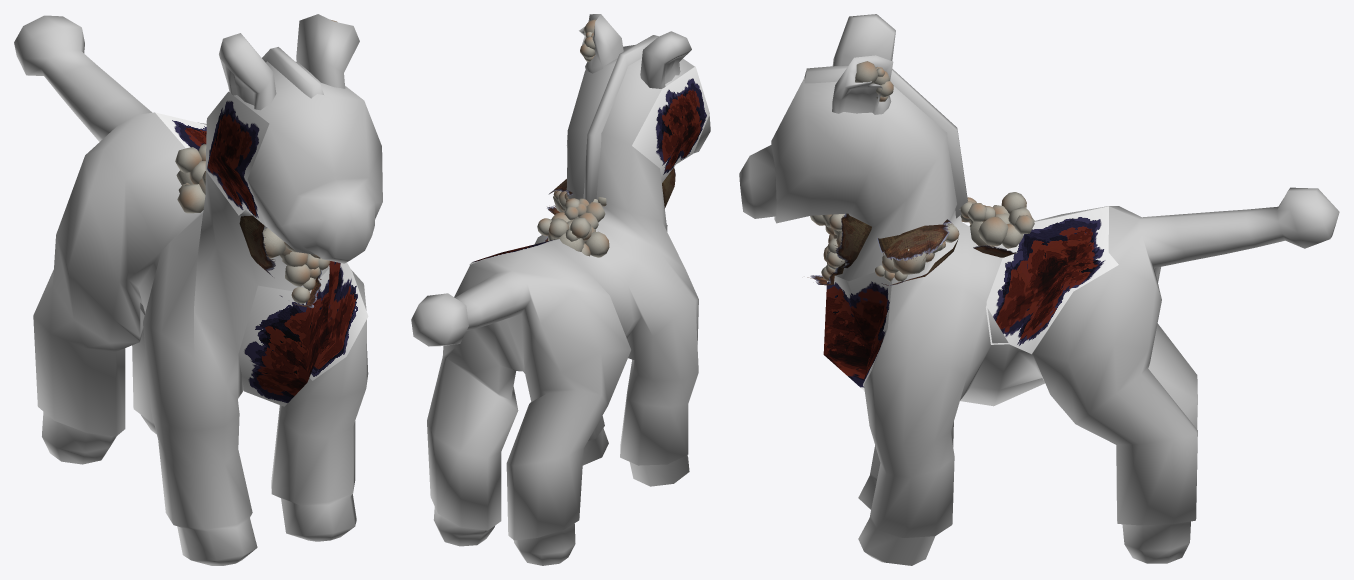
Rendered from SM_Peluche_Ane_2.fbx.
3 views of the same model, side by side, from view 1: azimuth 30°, elevation 25°; view 2: azimuth 150°, elevation 25°; view 3: azimuth 270°, elevation 25° (orthographic). The views are drawn at different scales.
Parts seen in each view (by area): view 1: Cylinder.001; view 2: Cylinder.001; view 3: Cylinder.001.
Boxes of the visible parts, x1,y1,x2,y2 form: Cylinder.001: (14, 14, 382, 565); Cylinder.001: (411, 14, 710, 565); Cylinder.001: (739, 14, 1339, 565).
Size of the model in its own units: 73.89 by 174 by 189.
